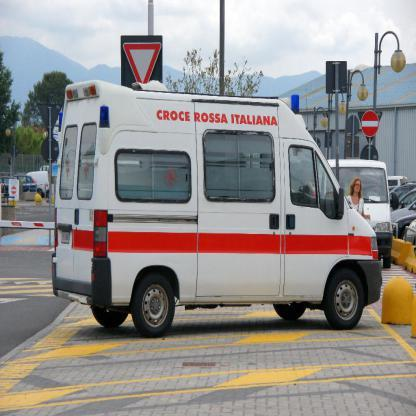Ambulance - v1 Ambulance last generate: (51, 79, 382, 335)
